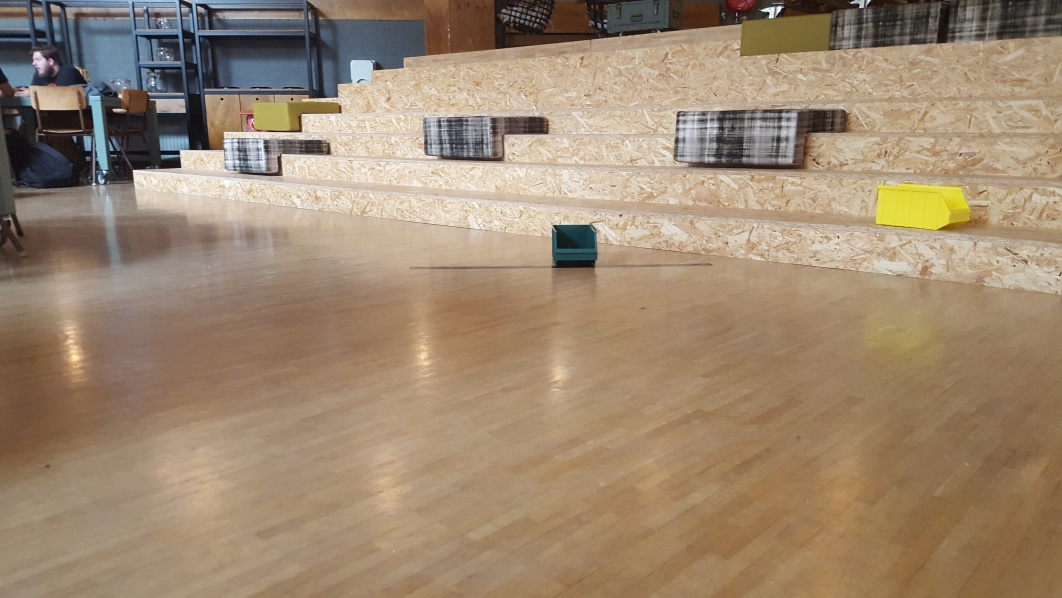tray: (869, 182, 975, 234), (544, 221, 604, 266)
